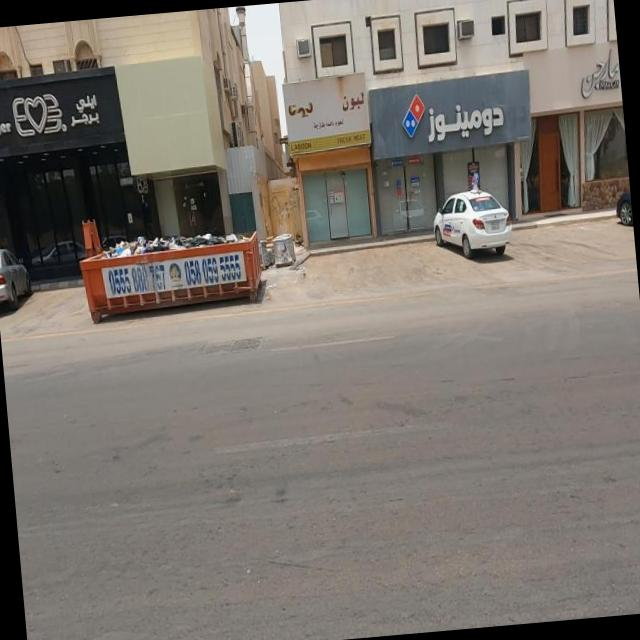debris: (156, 192, 282, 297), (84, 202, 202, 292)
